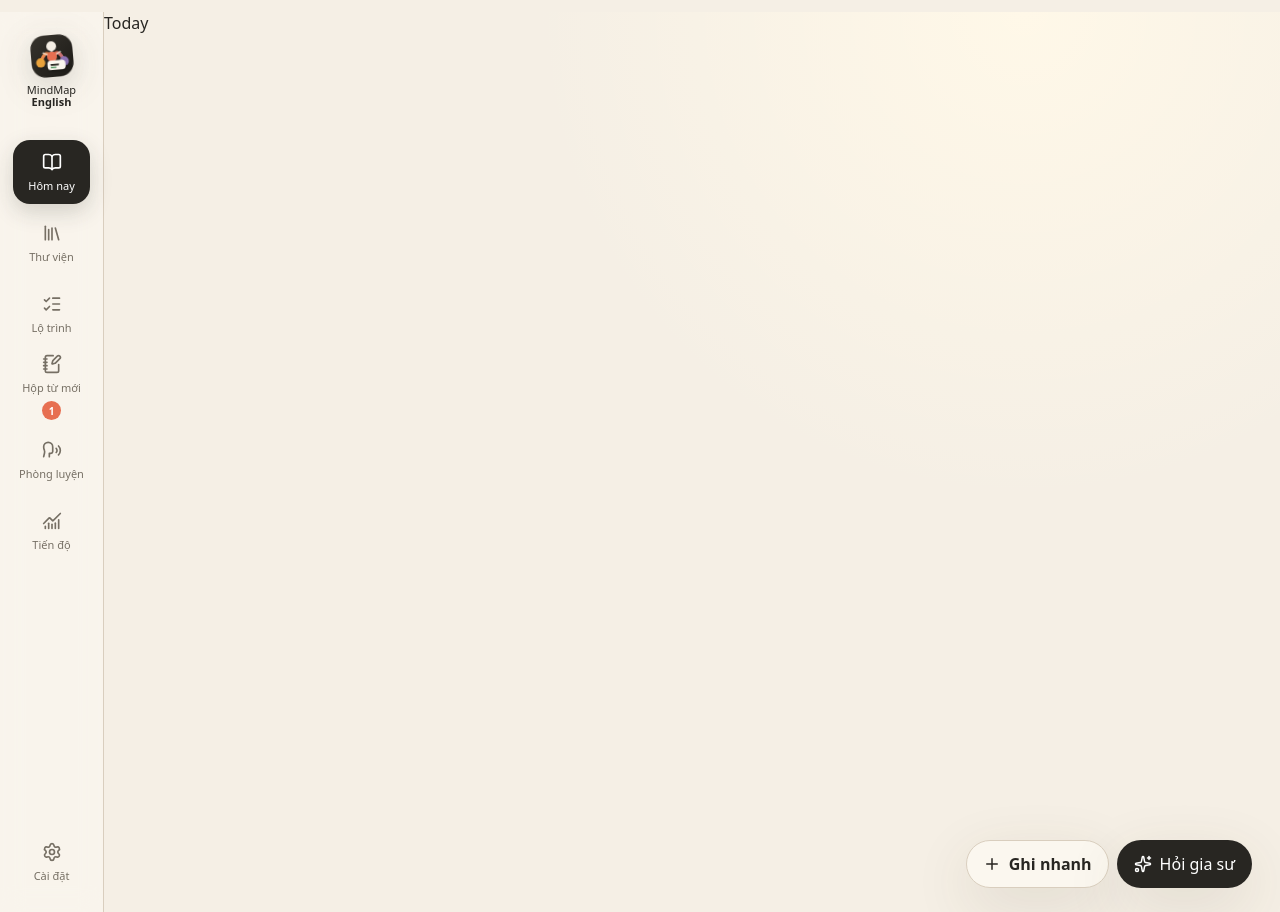
opens failed tab when AI enrichment fails
This screenshot has width=1280, height=912.
Click the button "Ghi nhanh" at (1037, 864), box left=966, top=840, right=1109, bottom=888
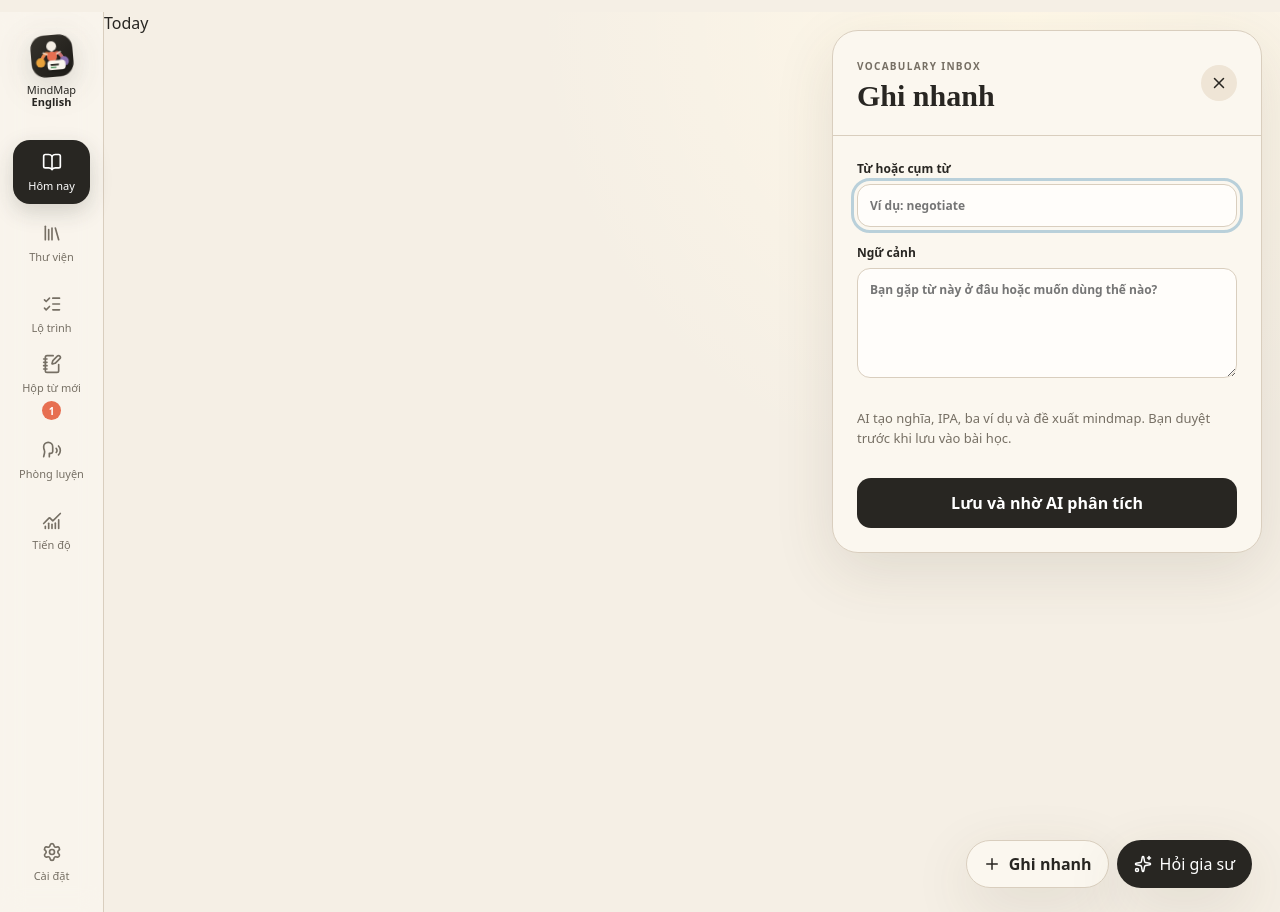
Type "negotiate" into the field labelled "Từ hoặc cụm từ" at (1047, 206), box left=857, top=184, right=1237, bottom=227
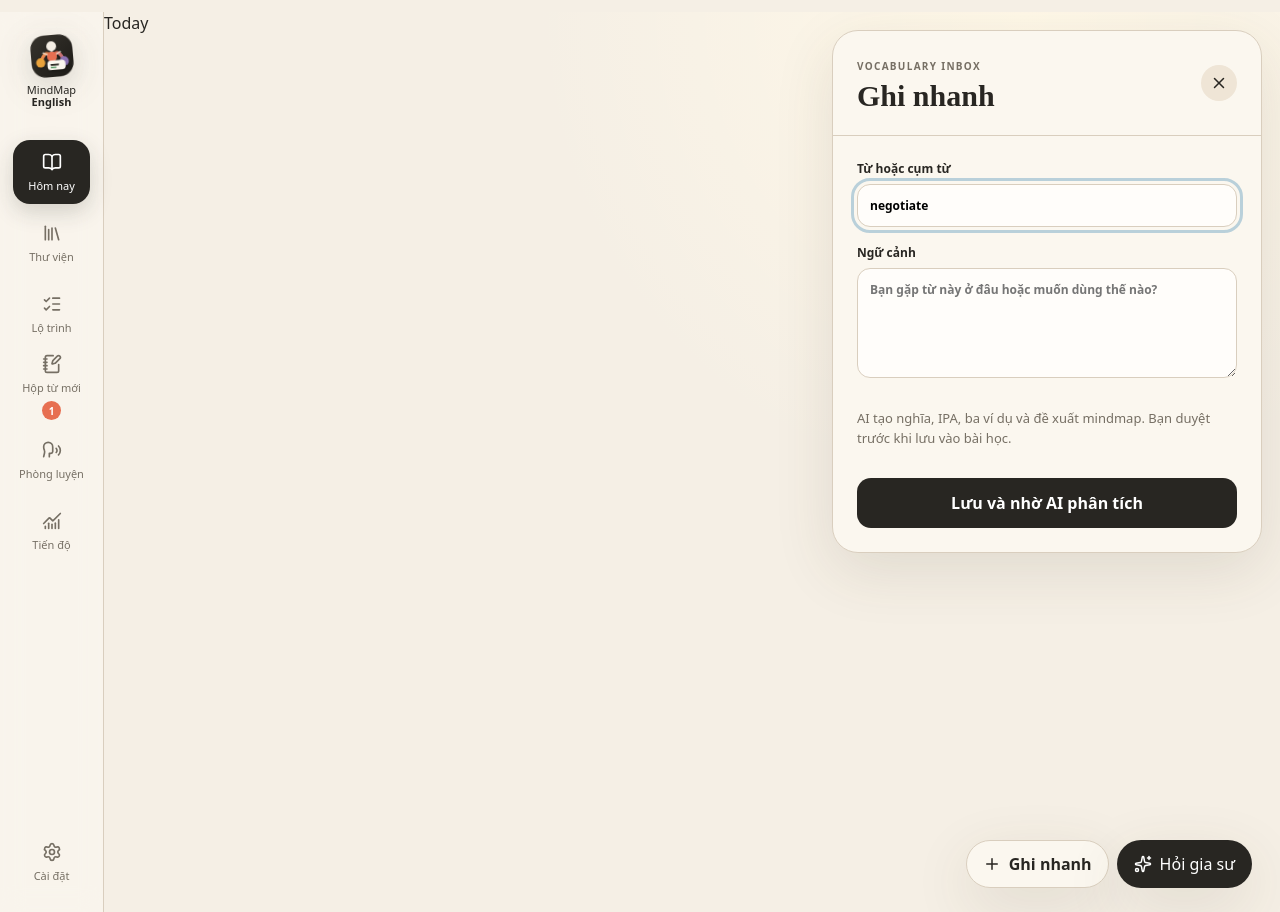
Click the button "Lưu và nhờ AI phân tích" at (1047, 503), box left=857, top=478, right=1237, bottom=528
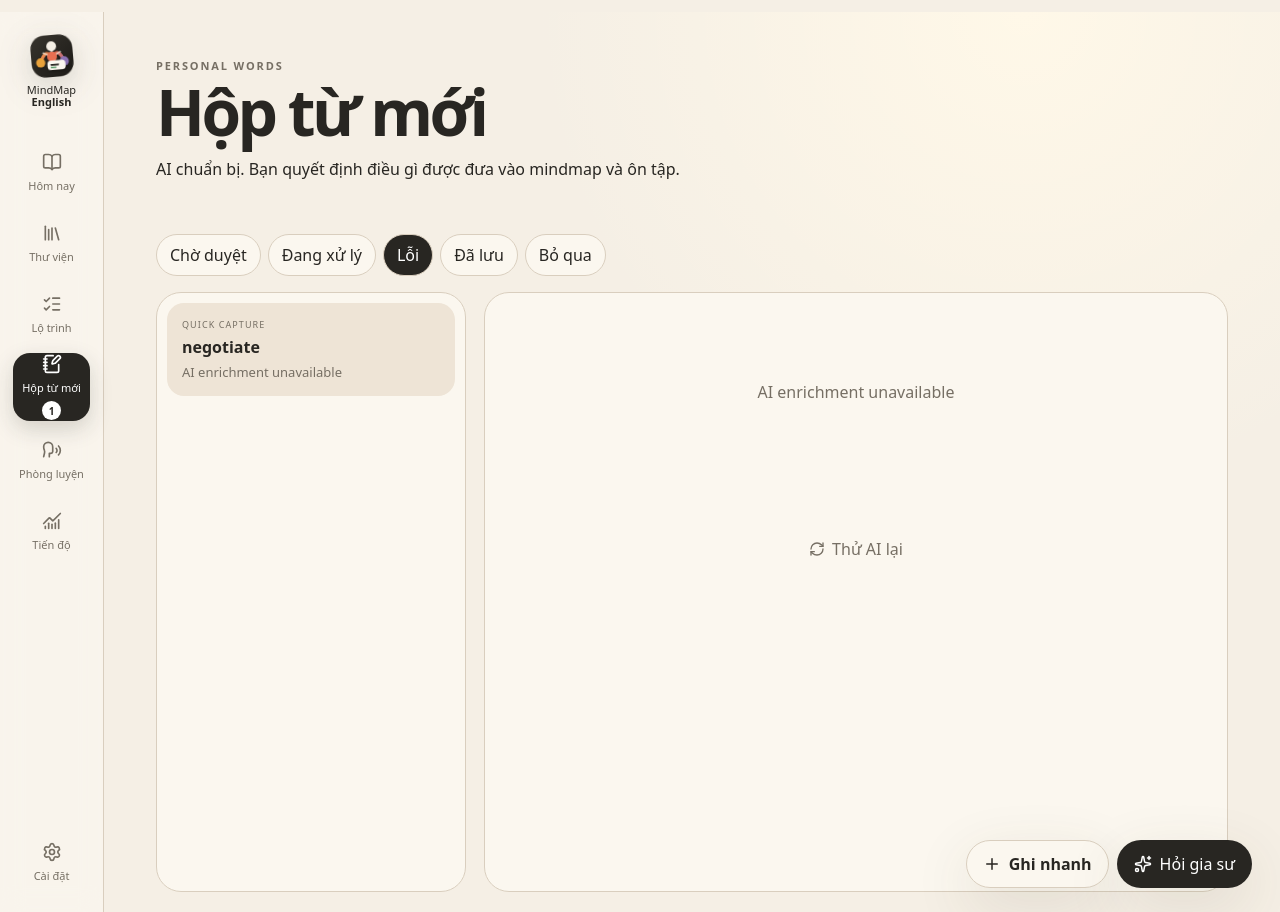
Result: the 1st text "AI enrichment unavailable" is shown at left=182, top=363, right=342, bottom=381
